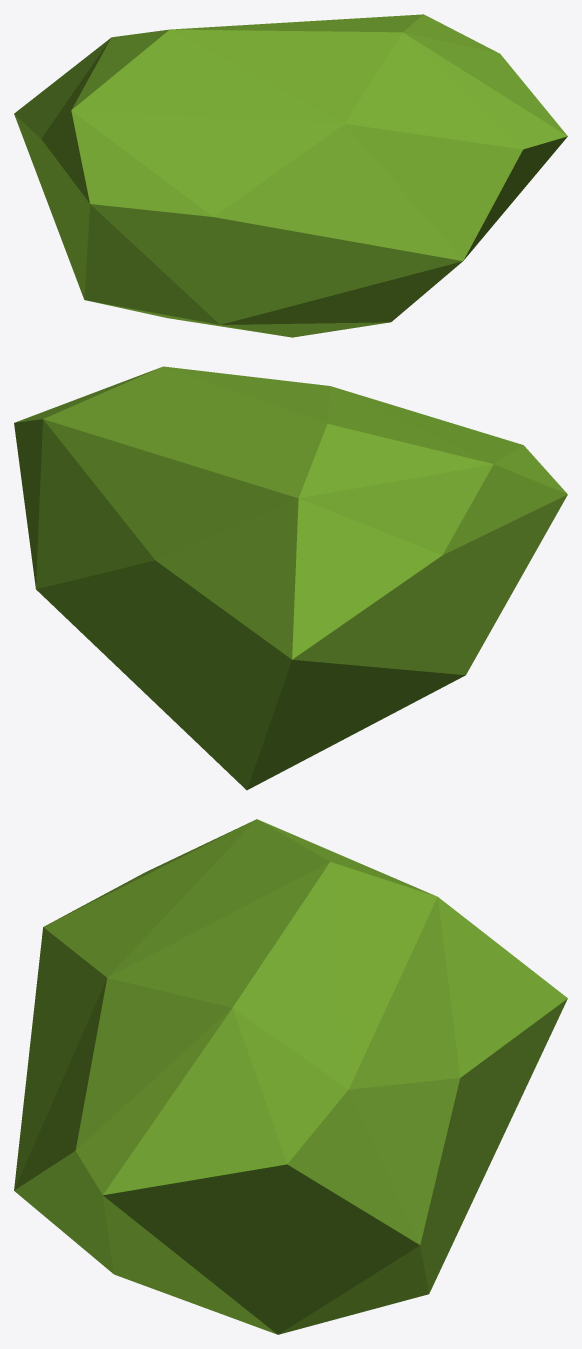
File: Natures2p4-green.fbx
3 views of the same model, one above another, from view 1: azimuth 30°, elevation 25°; view 2: azimuth 150°, elevation 25°; view 3: azimuth 270°, elevation 25° (orthographic). The views are drawn at different scales.
Parts seen in each view (by area): view 1: p4-green; view 2: p4-green; view 3: p4-green.
Part boxes in pixels (<box>): p4-green: <box>14,14,567,337</box>; p4-green: <box>14,366,567,790</box>; p4-green: <box>14,819,567,1334</box>.
Bounding box in the file's own units: 318 × 212 × 260.
